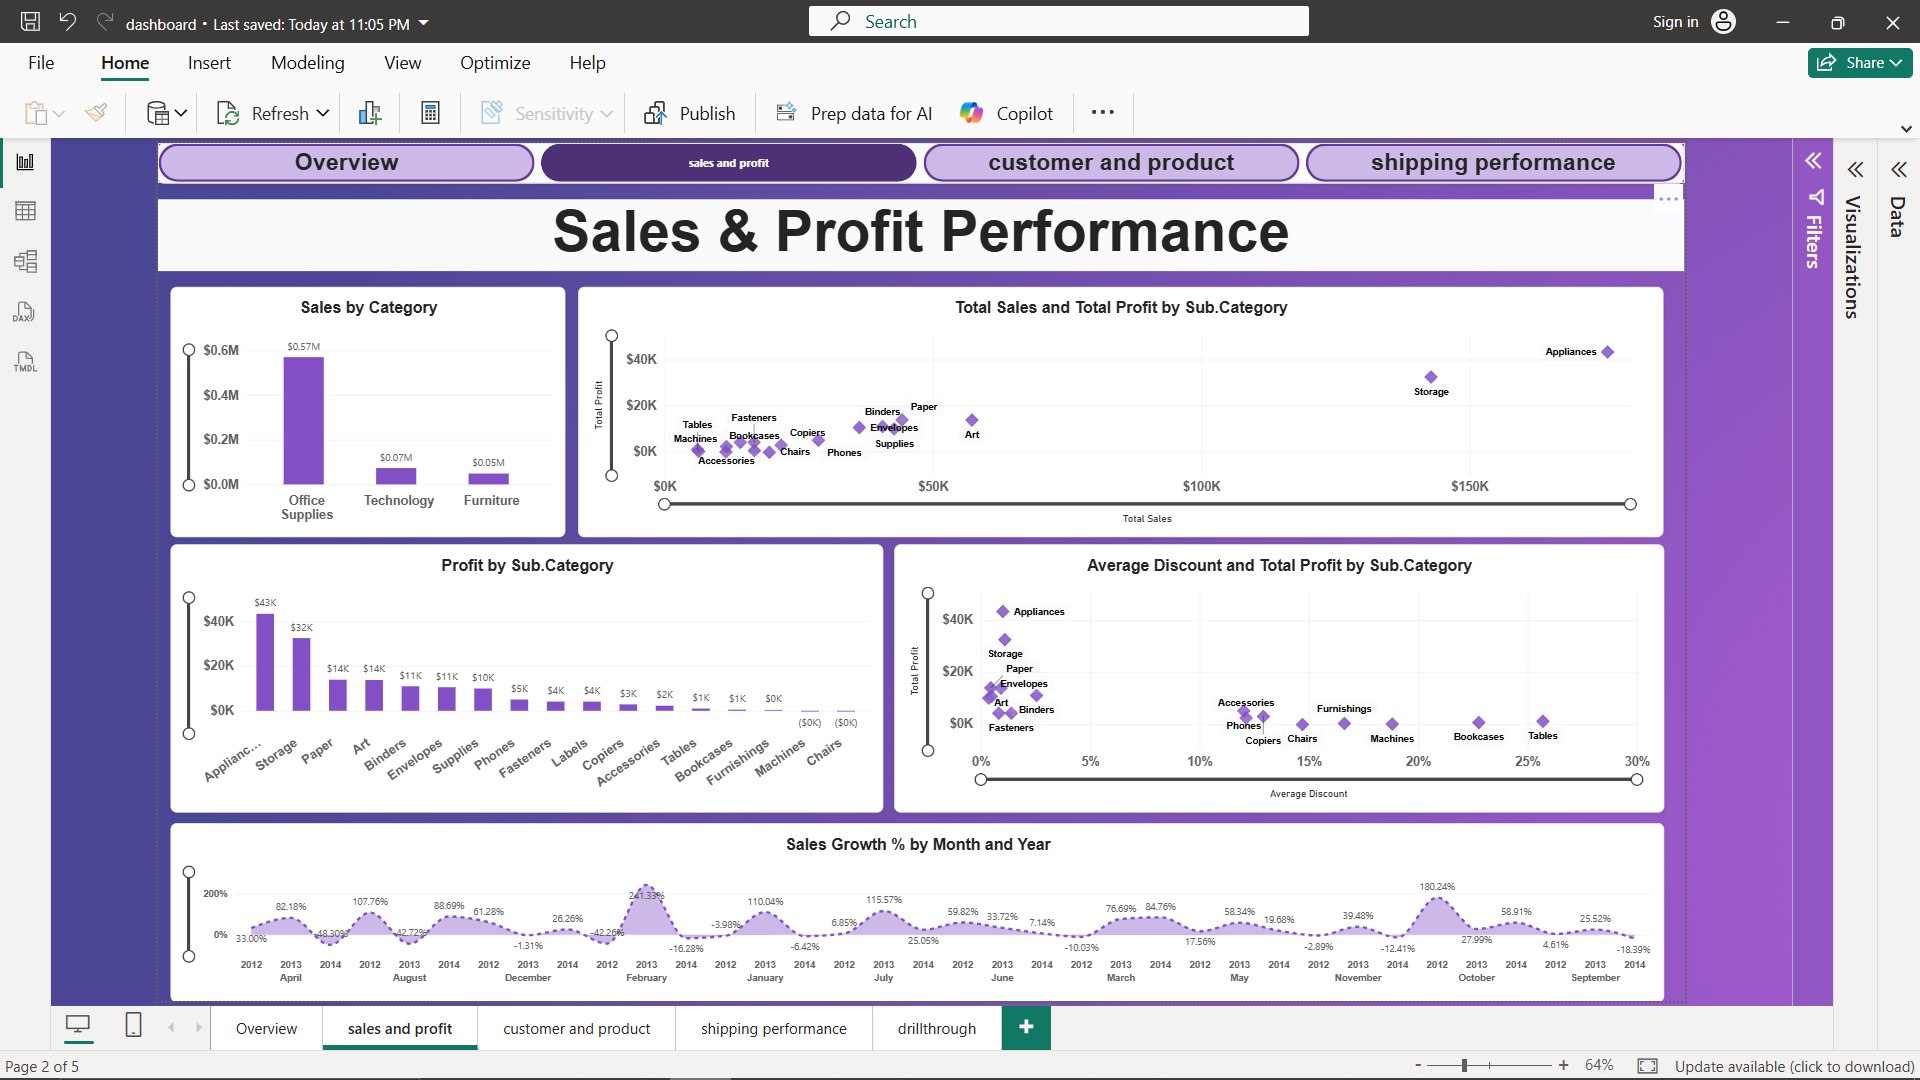

The page's visual inventory and layout, read from the dashboard file:
{"tool":"powerbi","page":{"name":"sales and profit","canvas":[1920,1080],"ordinal":1},"visuals":[{"type":"textbox","title":"Global Superstore - Executive Business Overview","box":[0,70.8,1920.4,90.7],"z":0},{"type":"columnChart","title":"Sales by Category","fields":{"Category":["superstore.Category"],"Y":["Sum(superstore.Sales)"]},"box":[15.3,181.5,496.9,315.5],"z":1},{"type":"columnChart","title":"Profit by Sub.Category","fields":{"Category":["superstore.Sub.Category"],"Y":["DateTable.Total Profit"]},"box":[15.3,505.4,897.2,337.5],"z":2},{"type":"scatterChart","fields":{"Category":["superstore.Sub.Category"],"X":["DateTable.Total Sales"],"Y":["DateTable.Total Profit"]},"box":[529.1,181.5,1365.3,315.5],"z":3},{"type":"scatterChart","fields":{"Category":["superstore.Sub.Category"],"X":["DateTable.Average Discount"],"Y":["DateTable.Total Profit"]},"box":[926,505.4,968.4,337.5],"z":4},{"type":"lineChart","fields":{"Category":["DateTable.Month","DateTable.Year"],"Y":["DateTable.Sales Growth %"]},"box":[15.3,854.8,1879.2,225.6],"z":5},{"type":"pageNavigator","box":[0,0,1919.9,50.9],"z":6}]}

Visuals, with their boxes on the page's 1920x1080 design canvas (x1, y1, x2, y2). These are canvas units, not pixel positions in the 1920x1080 screenshot, which may show the page scaled, cropped or inside an application window:
"Global Superstore - Executive Business Overview" textbox: {"x1": 0, "y1": 71, "x2": 1920, "y2": 162}
"Sales by Category" columnChart: {"x1": 15, "y1": 182, "x2": 512, "y2": 497}
"Profit by Sub.Category" columnChart: {"x1": 15, "y1": 505, "x2": 912, "y2": 843}
scatterChart - superstore.Sub.Category x DateTable.Total Sales: {"x1": 529, "y1": 182, "x2": 1894, "y2": 497}
scatterChart - superstore.Sub.Category x DateTable.Average Discount: {"x1": 926, "y1": 505, "x2": 1894, "y2": 843}
lineChart - DateTable.Month x DateTable.Year: {"x1": 15, "y1": 855, "x2": 1894, "y2": 1080}
pageNavigator: {"x1": 0, "y1": 0, "x2": 1920, "y2": 51}
